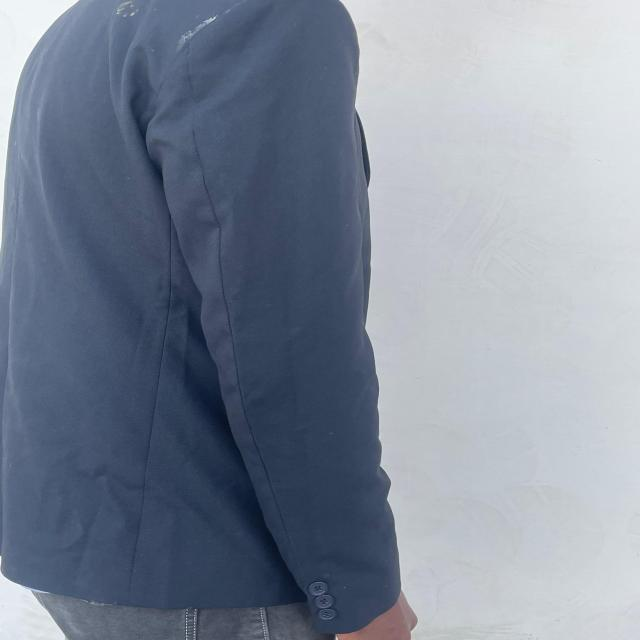uniform: (1, 0, 405, 638)
